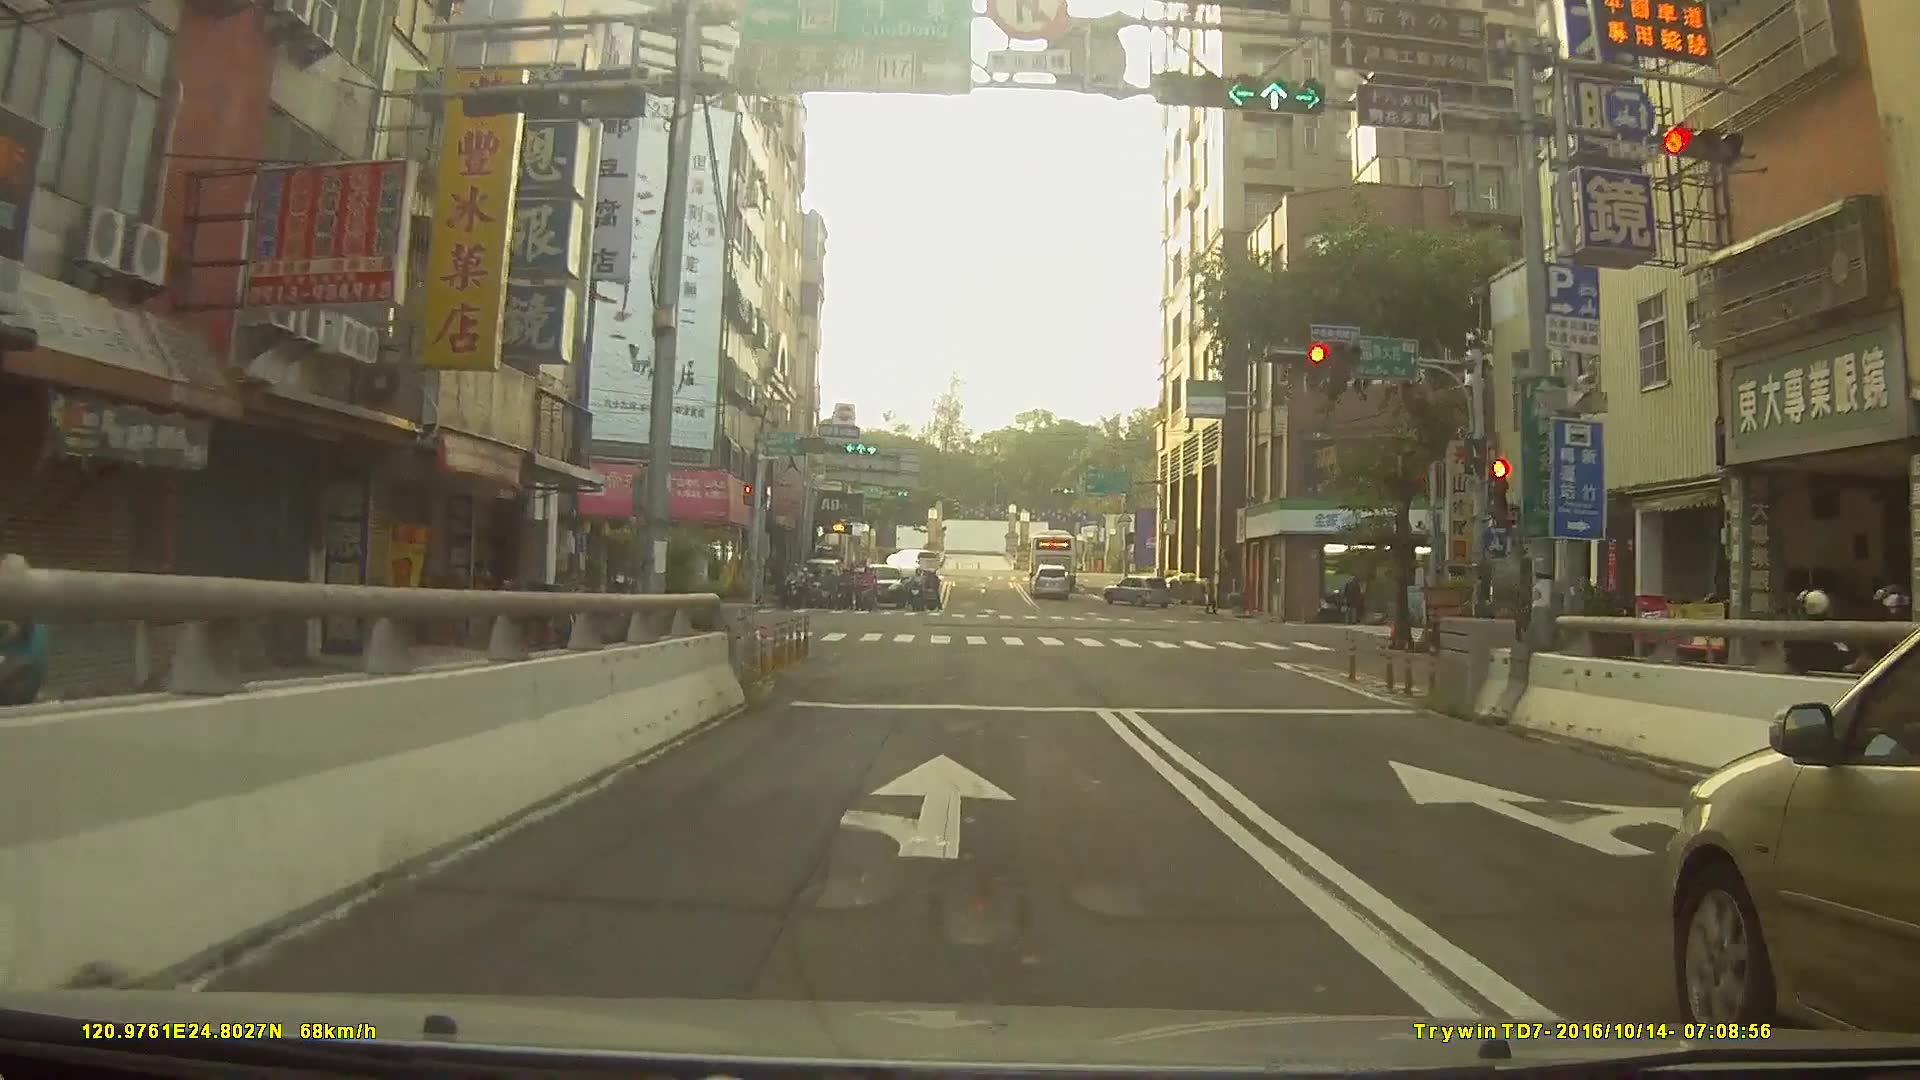pedestrian: (1342, 573, 1365, 628), (1201, 583, 1221, 618)
vehicle: (1666, 623, 1920, 1040), (1025, 532, 1080, 582), (1102, 573, 1175, 608), (857, 563, 907, 610), (882, 546, 939, 574), (1030, 565, 1073, 600)
